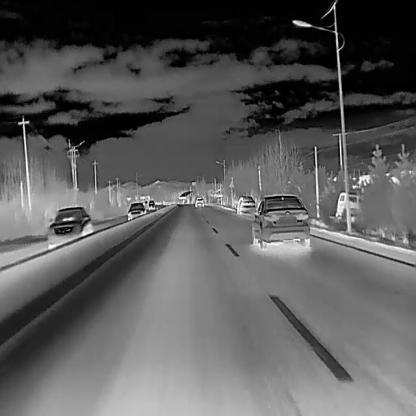car: (251, 193, 310, 250), (46, 206, 94, 250), (335, 190, 360, 220), (126, 201, 146, 221), (236, 195, 256, 215), (194, 196, 204, 207), (148, 199, 156, 211)
